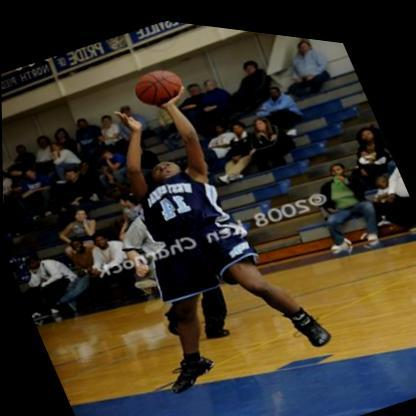basketball: (127, 52, 191, 112)
